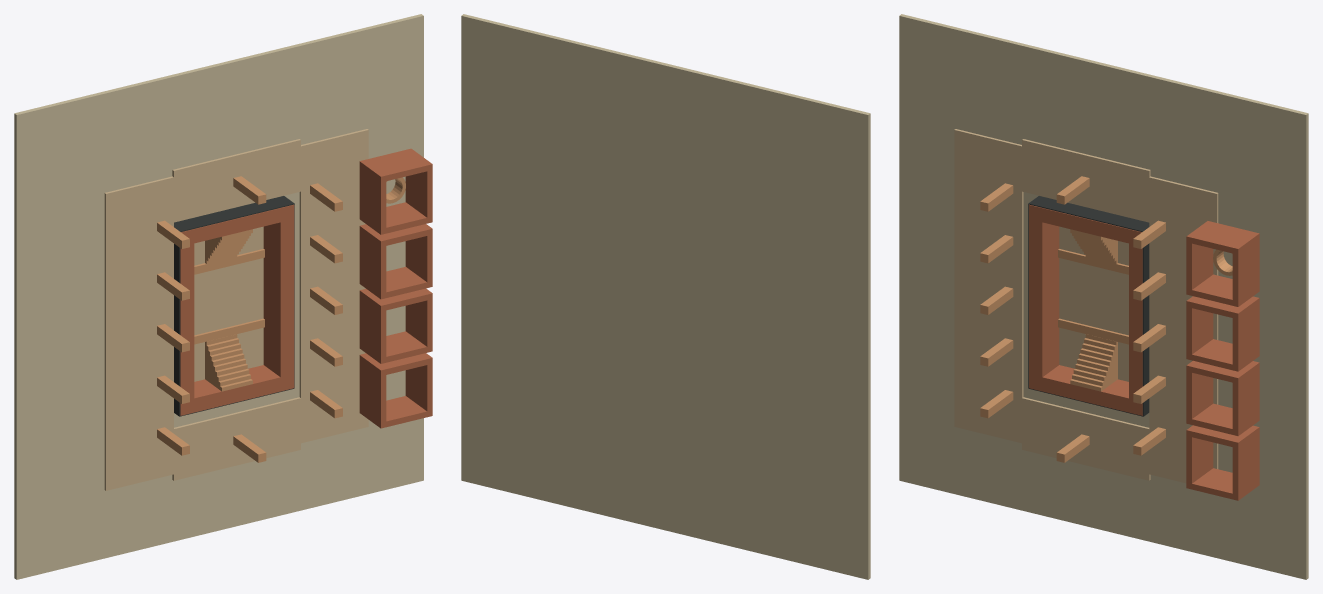
Rendered from great-bath.obj.
The picture shows the model from 3 angles, left to right: view 1: azimuth 30°, elevation 25°; view 2: azimuth 150°, elevation 25°; view 3: azimuth 330°, elevation 25°; orthographic projection.
Parts seen in each view (by area): view 1: ground_0, colonnade_33, colonnade_34, colonnade_36, basin_2, colonnade_35, basin_6, basin_3, basin_5, basin_4, colonnade_65, waterproof_8 (+18 smaller); view 2: ground_0; view 3: ground_0, colonnade_33, colonnade_34, colonnade_36, colonnade_35, basin_2, basin_5, basin_3, basin_6, basin_4, colonnade_65, waterproof_8 (+18 smaller).
Part boxes in pixels (x1,y1,x2,y2): ground_0: (14,14,423,579); colonnade_33: (104,176,173,490); colonnade_34: (299,129,368,443); colonnade_36: (172,139,300,222); basin_2: (194,226,263,381); colonnade_35: (172,397,300,480); basin_6: (263,219,294,377); basin_3: (180,365,294,415); basin_5: (180,243,194,399); basin_4: (181,204,294,244); colonnade_65: (359,148,432,182); waterproof_8: (174,196,294,231); ground_0: (461,14,870,579); ground_0: (899,14,1308,579); colonnade_33: (954,129,1023,443); colonnade_34: (1149,176,1218,483); colonnade_36: (1022,139,1150,222); colonnade_35: (1022,397,1150,480); basin_2: (1059,226,1128,381); basin_5: (1029,219,1059,377); basin_3: (1029,365,1142,415); basin_6: (1129,243,1142,399); basin_4: (1029,204,1141,244); colonnade_65: (1186,221,1259,254); waterproof_8: (1028,196,1149,231).
Bounding box in the file's own units: 33 × 36 × 6.25.
